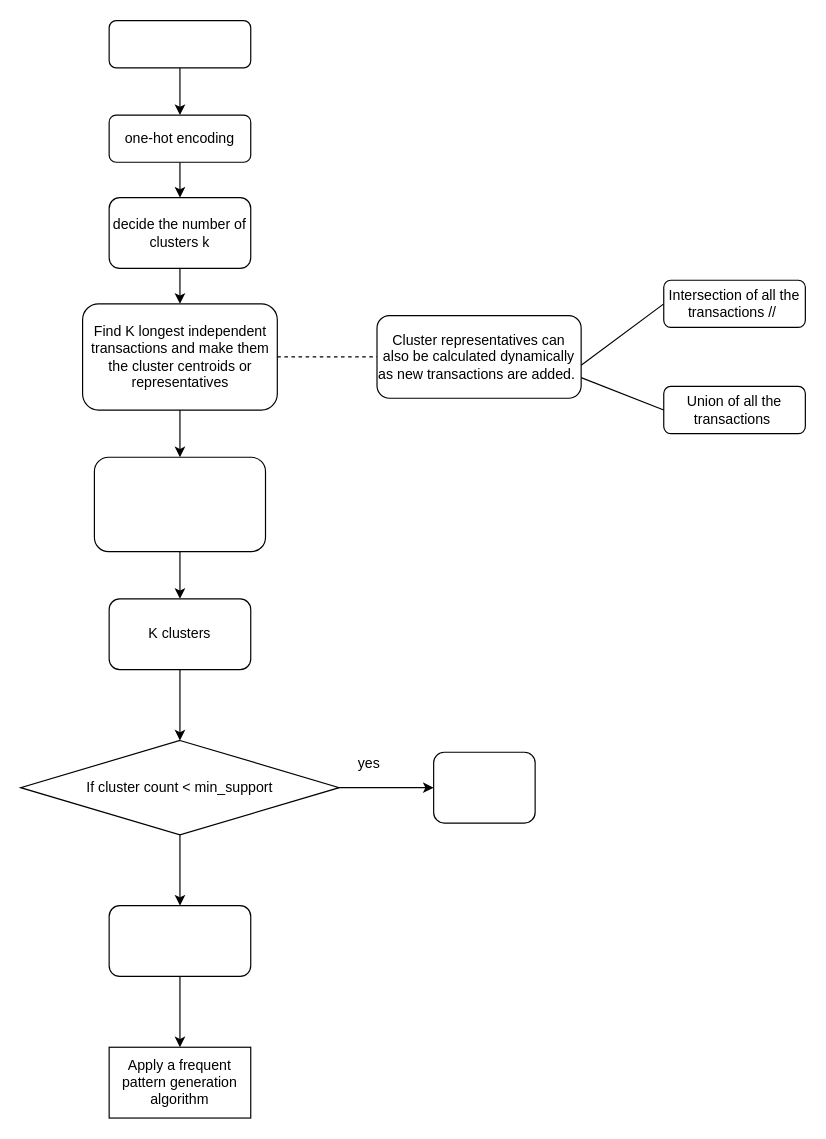
Some shapes in this 826 by 1139 pixel diagram are drawn without their labels. The shapes that lost their labels are listed below. From the top down, each one's centre as x and y in pixels, then its label:
the point at 179,43: transaction dataset
the point at 179,504: Cluster all the data using jacaard co-efficient as the distance metric.
the point at 483,787: Prune the cluster
the point at 179,940: Add it to reduced database
